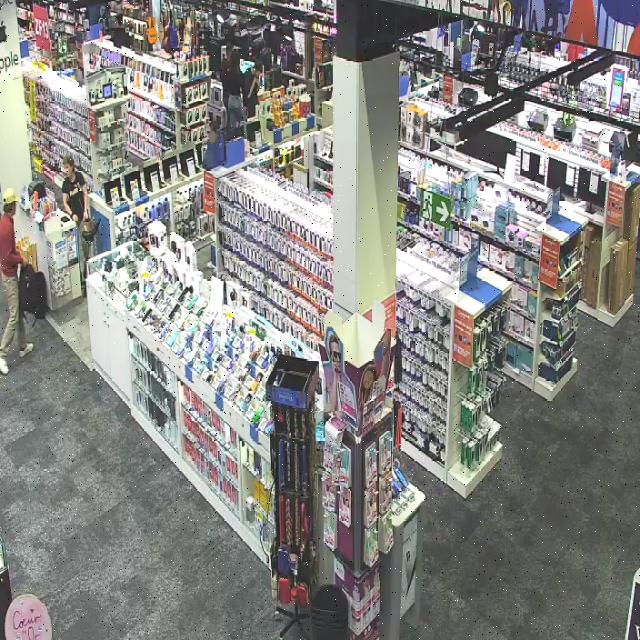bags: (20, 263, 46, 322)
person: (0, 188, 33, 374), (62, 156, 89, 226), (80, 230, 87, 258)
